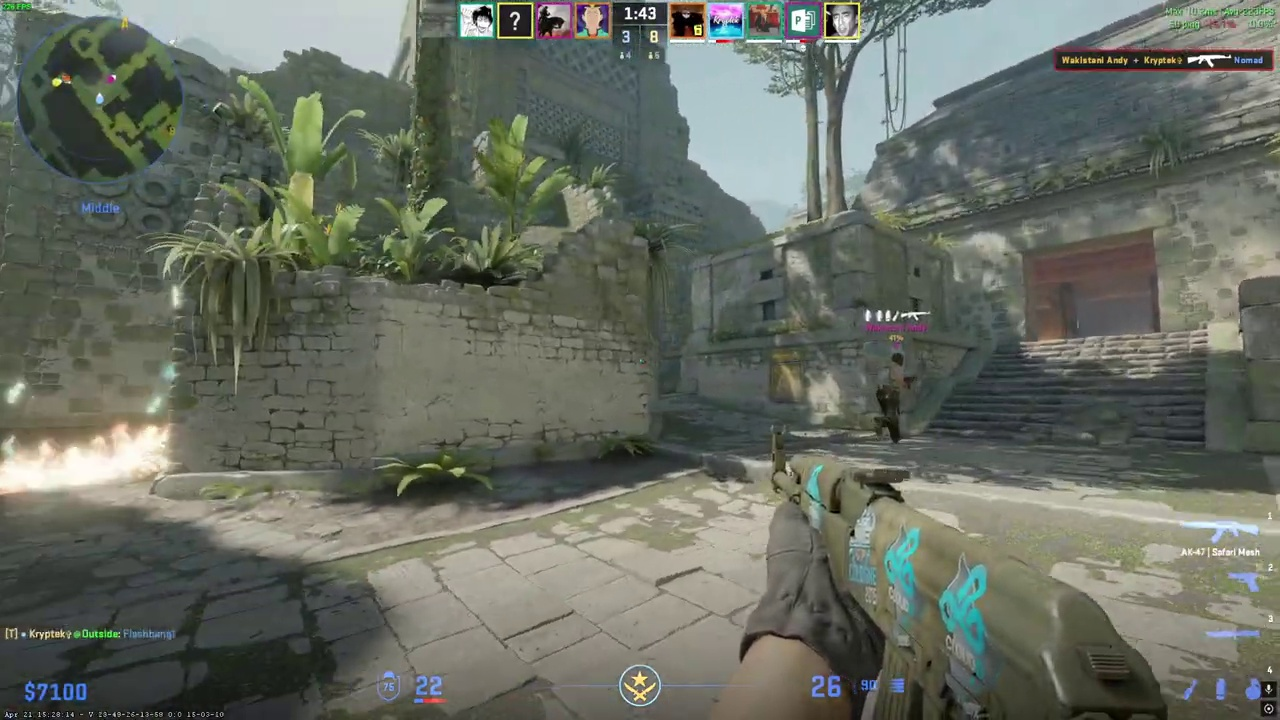Terrorist: (870, 351, 912, 445)
